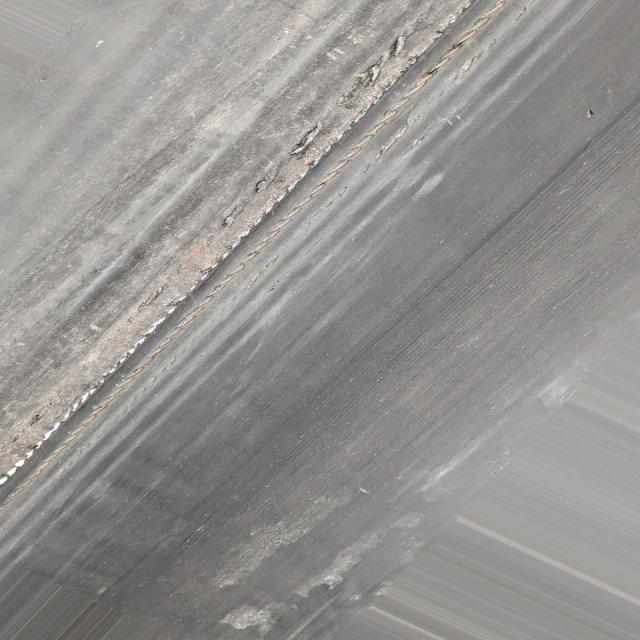impact damage: (7, 0, 509, 499)
